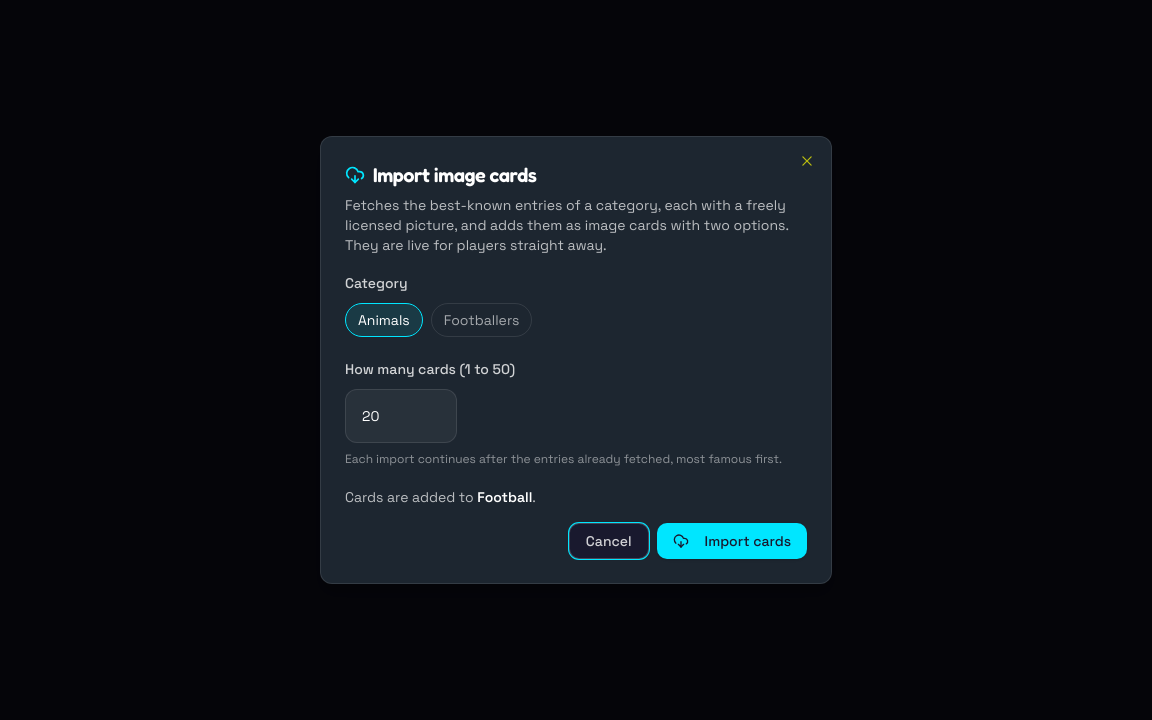
ImportCardsDialog › sends the topic and the chosen country for a people category
The width and height of the screenshot is (1152, 720).
Click the radio button labelled "Footballers" at coordinates (482, 320), box left=431, top=303, right=532, bottom=337
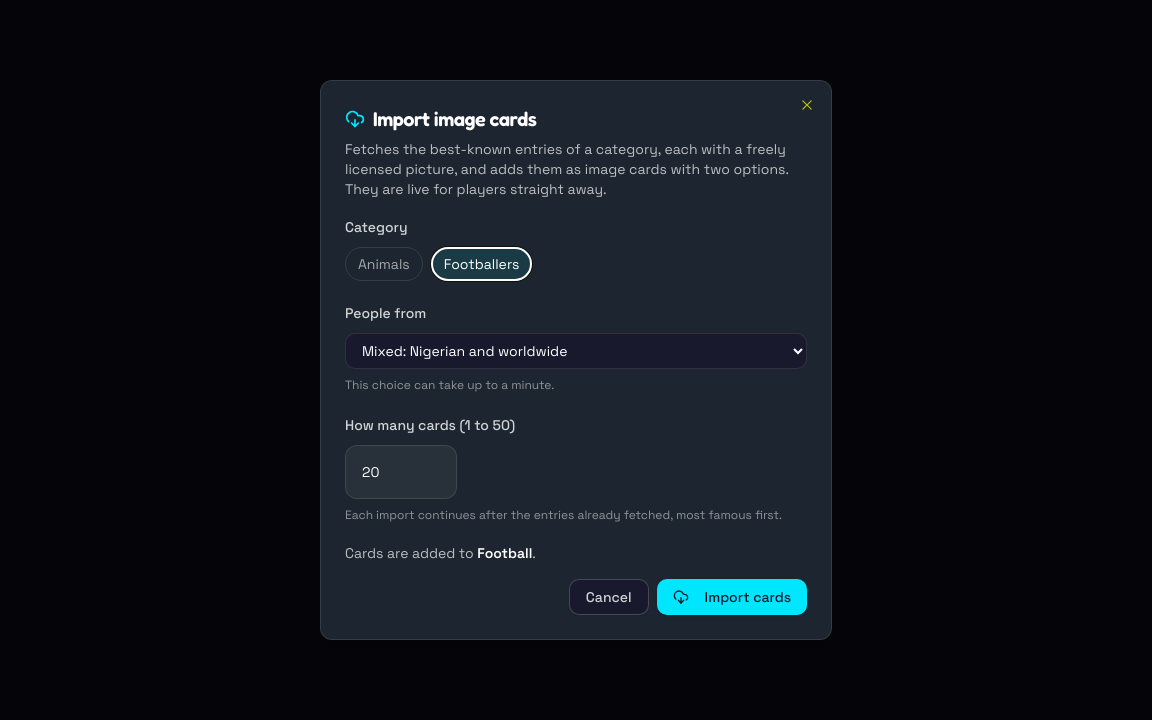
Select "Ghana" in the dropdown labelled "People from" at coordinates (576, 351), box left=345, top=333, right=807, bottom=369
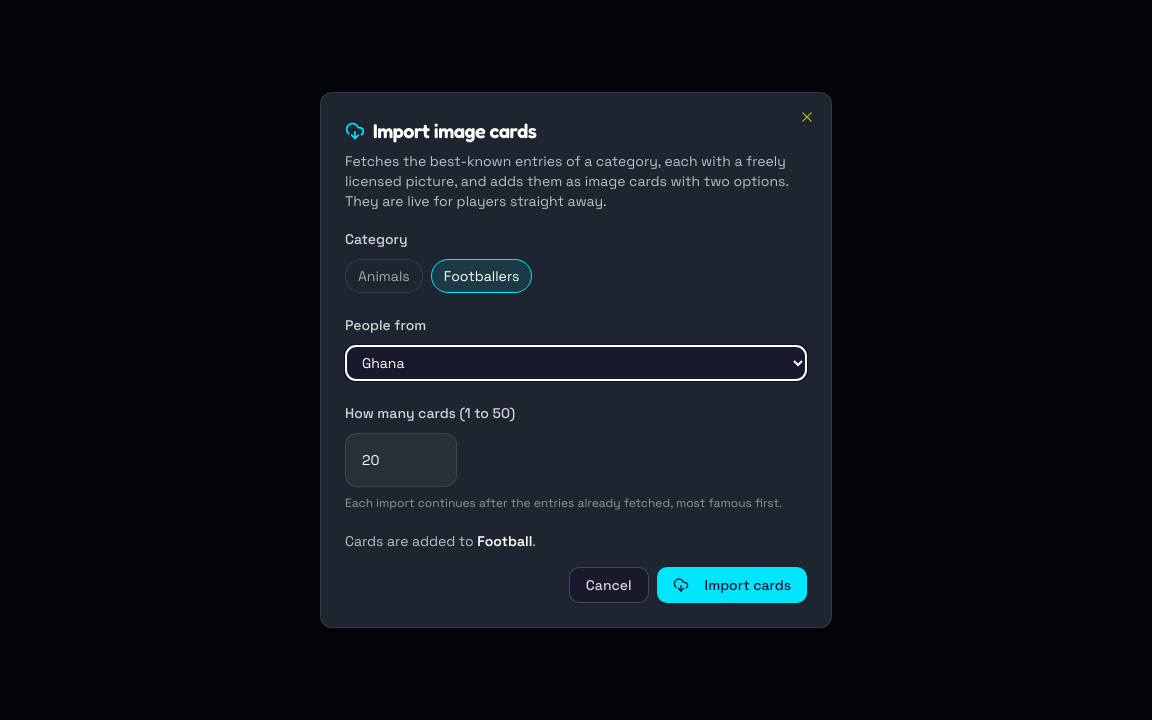
Replace the text in the field labelled "How many cards (1 to 50)" with "5" at coordinates (401, 460), box left=345, top=433, right=457, bottom=487
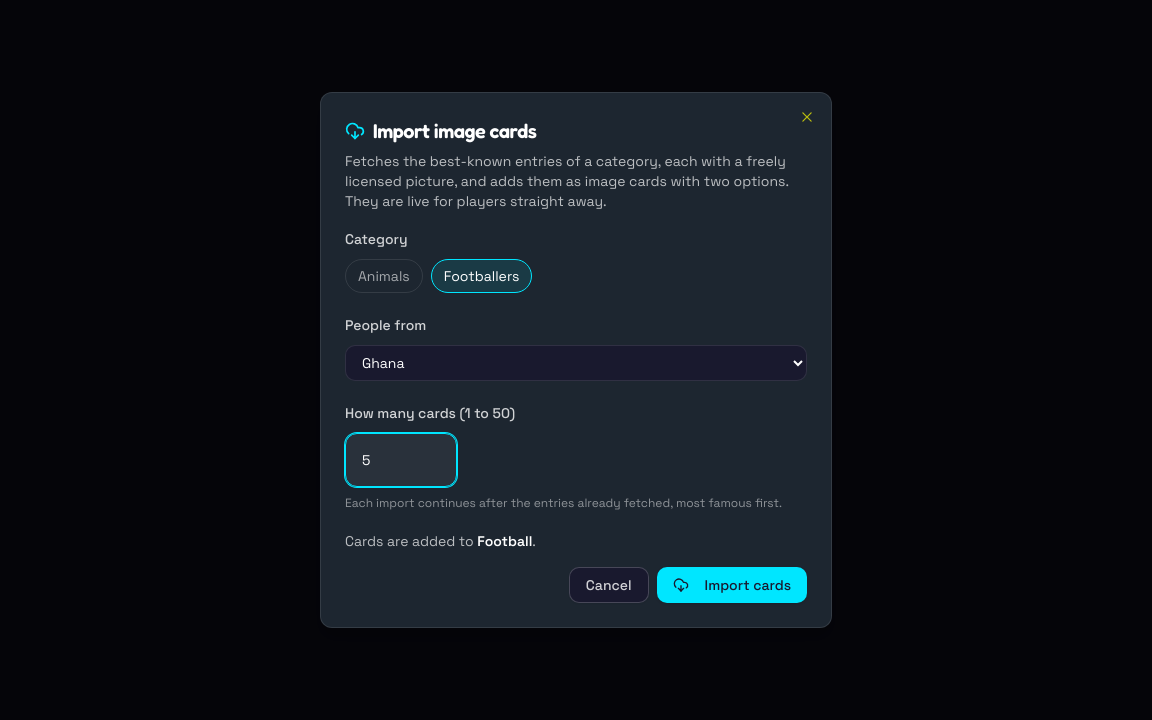
Click the button "Import cards" at coordinates (732, 585), box left=657, top=567, right=807, bottom=603
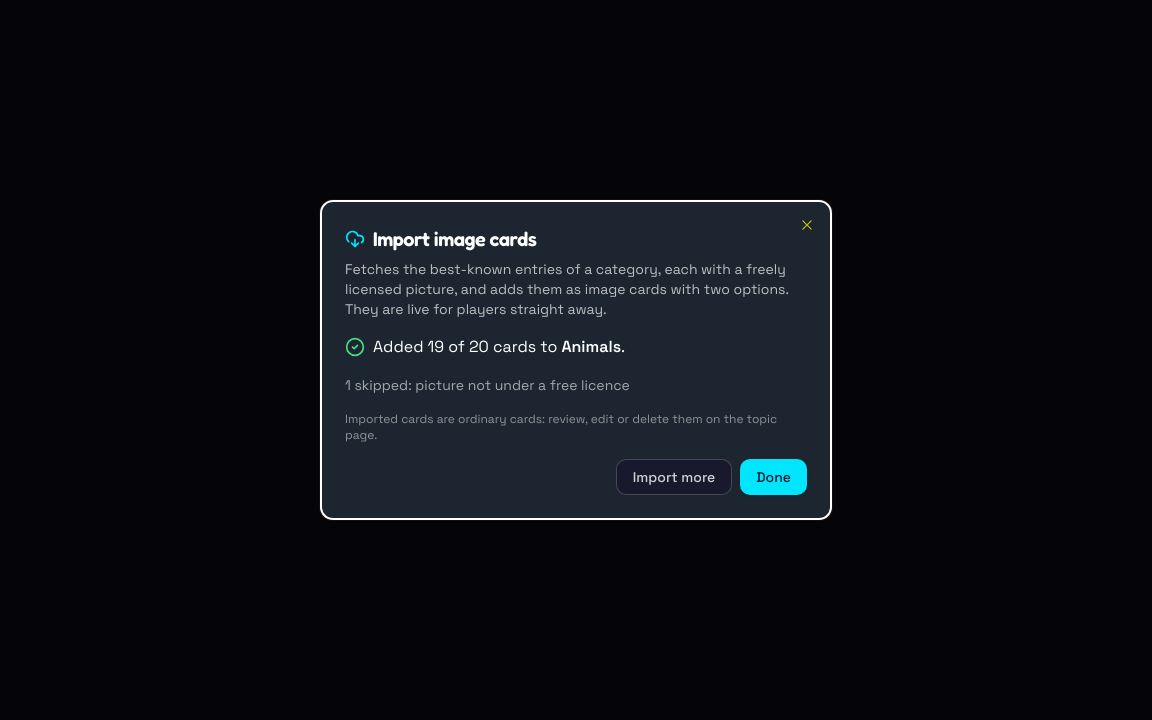
Check: the text "Added 19 of 20 cards to Animals." is shown, box left=373, top=335, right=625, bottom=359
